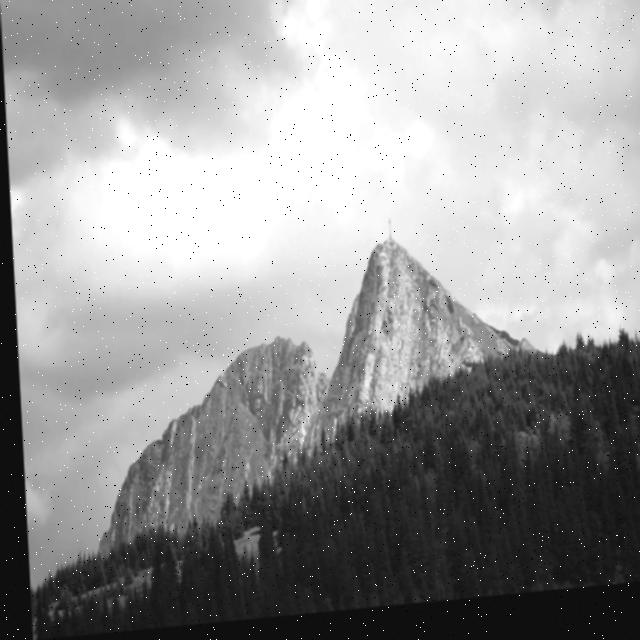Giewont: (287, 120, 497, 360)
Maly giewont: (346, 204, 534, 402)
